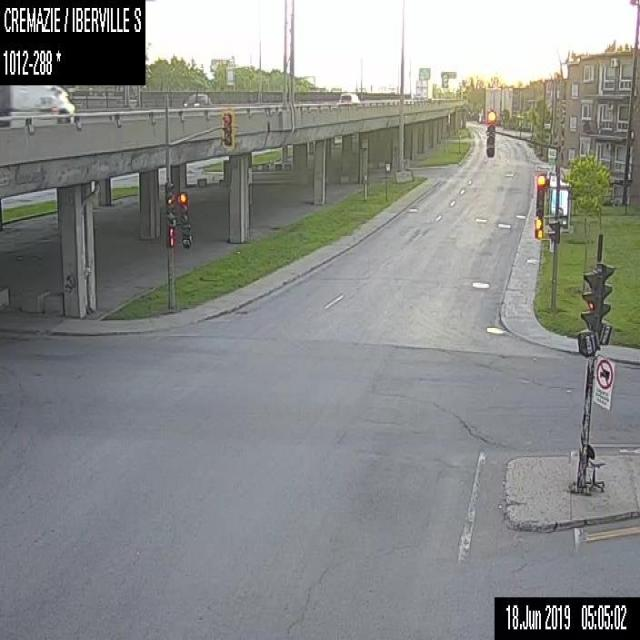vehicle: (7, 84, 78, 125), (182, 90, 212, 106), (416, 78, 434, 102), (337, 89, 360, 103)
